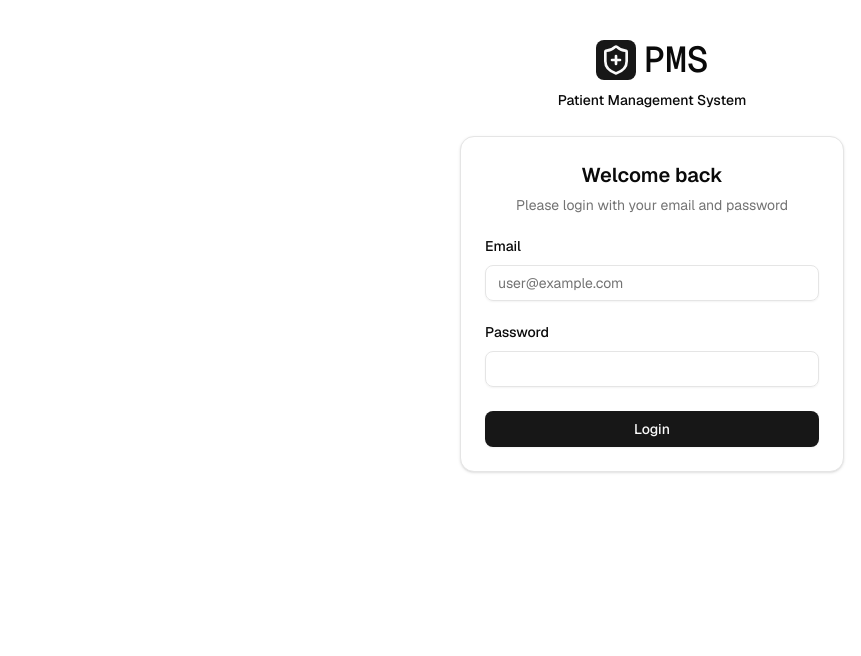
Scenario: Login flow integration › logs in successfully, stores token, and fetches profile
The width and height of the screenshot is (861, 656).
# Perform user actions
Type "test@example.com" into the field labelled "Email".
click(652, 283); type("test@example.com")  # box top-left (485, 265), bottom-right (819, 301)
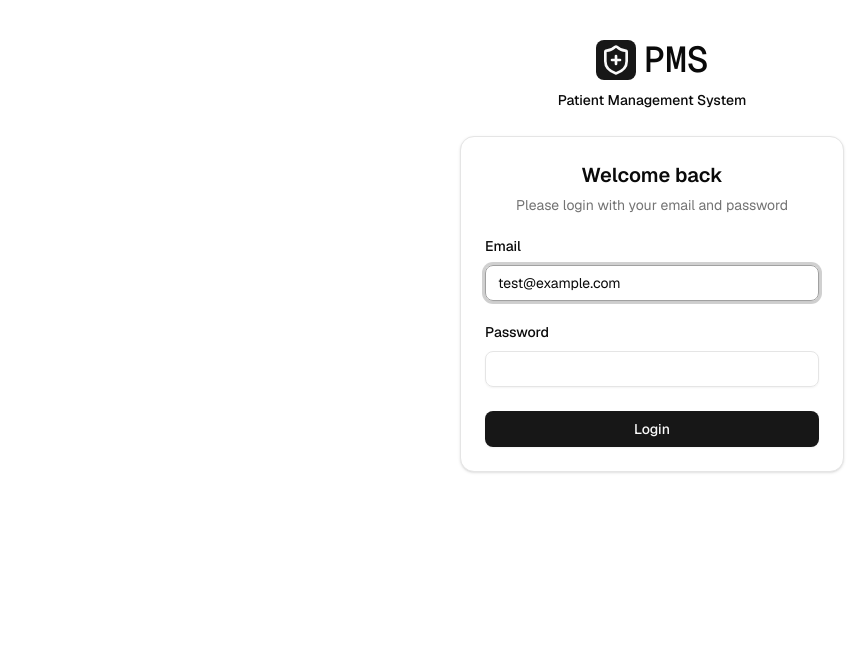
Type "password123" into the password field labelled "Password".
click(652, 369); type("password123")  # box top-left (485, 351), bottom-right (819, 387)
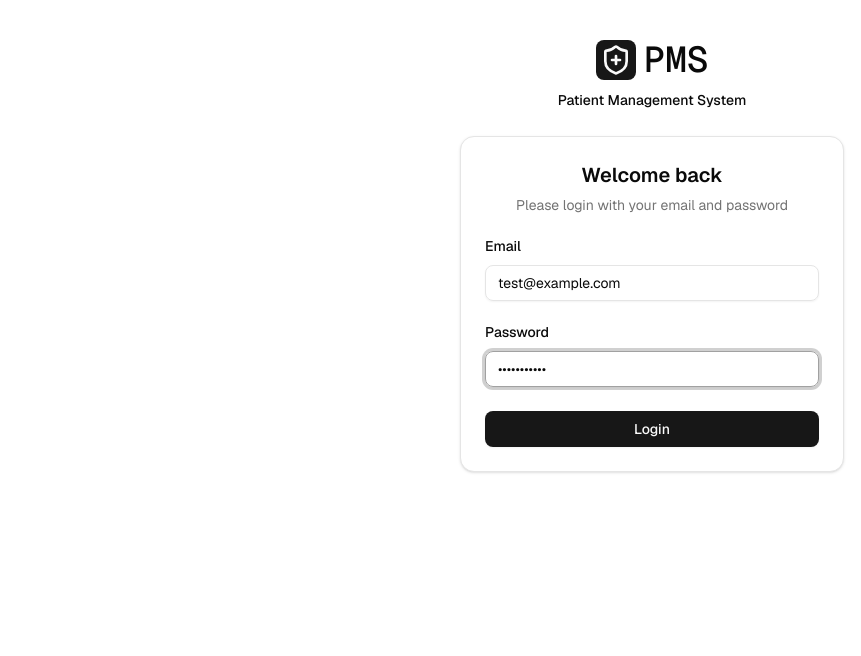
Click the button "Login".
click(652, 429)  # box top-left (485, 411), bottom-right (819, 447)
(page scrolled)
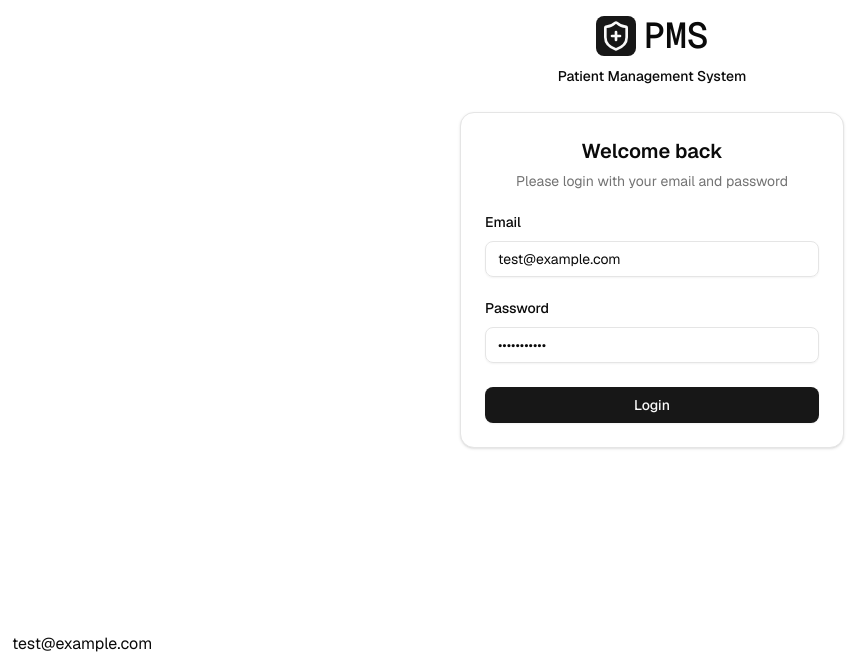
Expected: the text with test id "user-email" reads "test@example.com", top-left (12, 633), bottom-right (152, 654)
